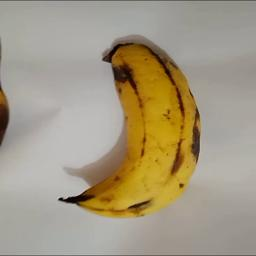Banana Semifresh: (53, 39, 207, 219)
